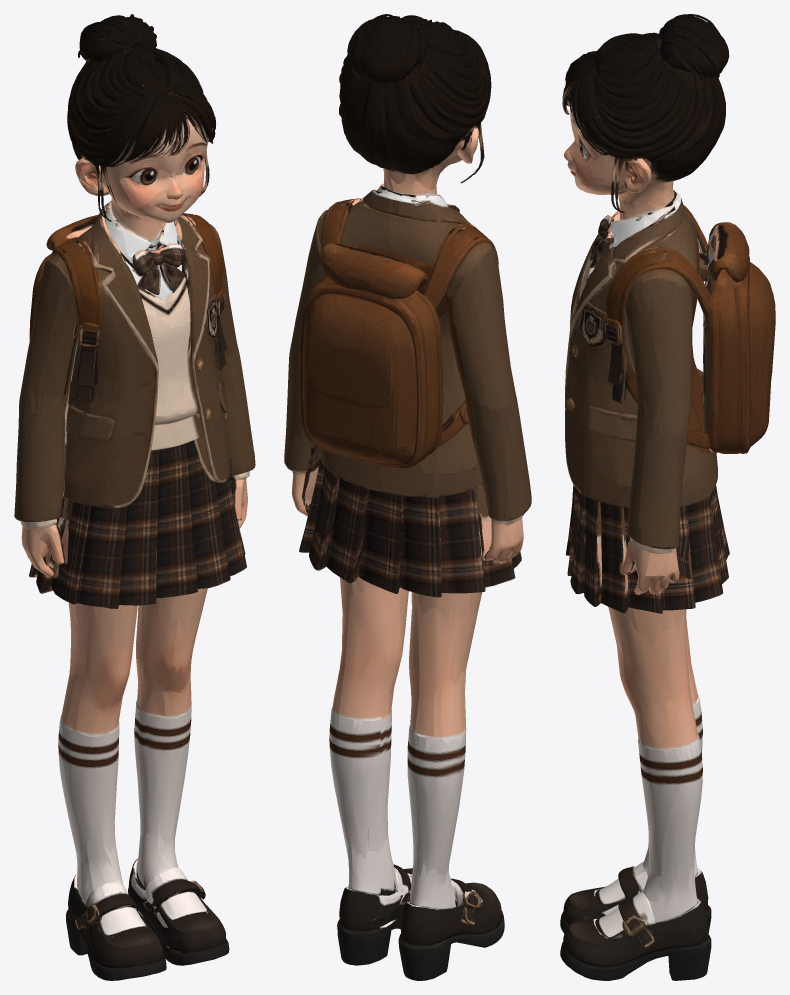
File: student-girl-v2.glb
The picture shows the model from 3 angles, left to right: view 1: azimuth 30°, elevation 25°; view 2: azimuth 150°, elevation 25°; view 3: azimuth 270°, elevation 25°; orthographic projection. The views are drawn at different scales.
Visible parts, largest first — view 1: output_unwrapped; view 2: output_unwrapped; view 3: output_unwrapped.
Part boxes in pixels (x1,y1,x2,y2): output_unwrapped: (14,14,255,980); output_unwrapped: (284,14,531,980); output_unwrapped: (560,14,775,980).
Bounding box in the file's own units: 0.4678 × 1.76 × 0.3667.
1 material, 1 textured.
